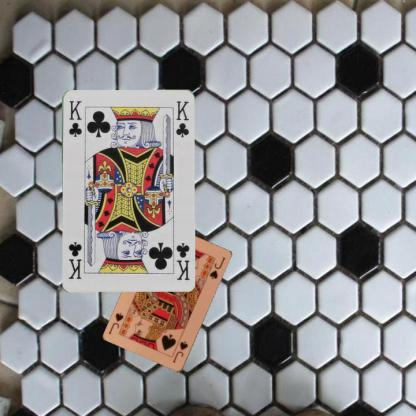Js: (170, 339, 189, 364)
Kc: (173, 240, 190, 281), (66, 98, 82, 138)
